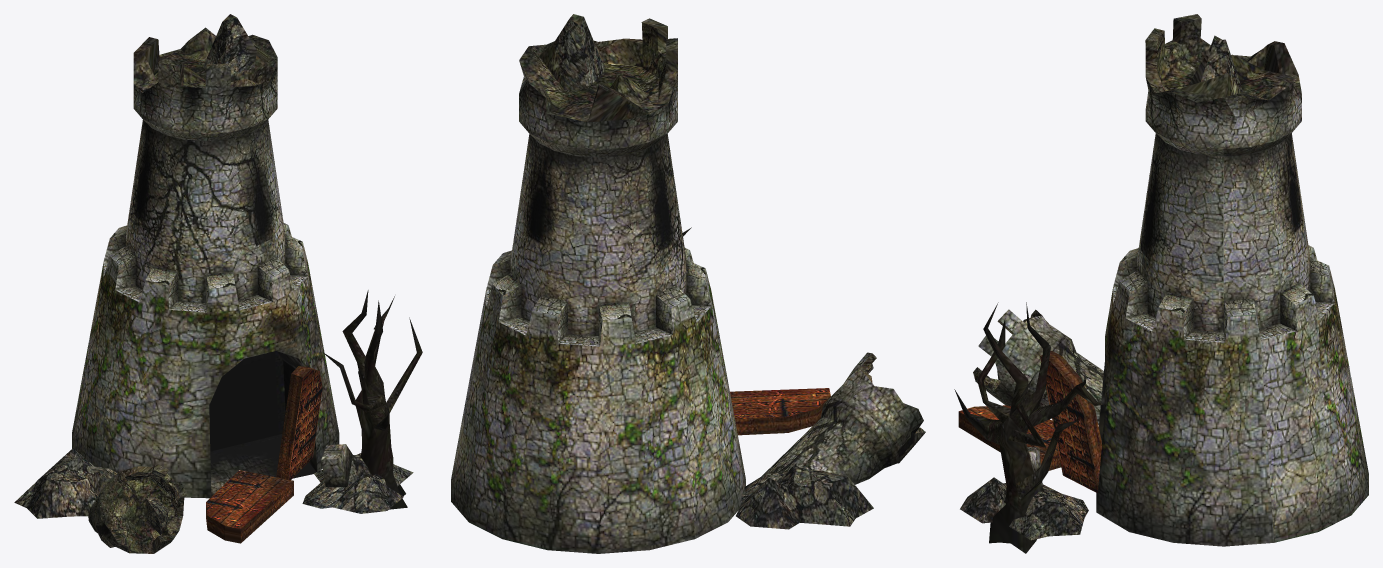
The model's file is twr.FBX.
3 views of the same model, side by side, from view 1: azimuth 30°, elevation 25°; view 2: azimuth 150°, elevation 25°; view 3: azimuth 270°, elevation 25° (orthographic). The views are drawn at different scales.
Parts seen in each view (by area): view 1: Line01; view 2: Line01; view 3: Line01.
Boxes of the visible parts, box(x1,y1,x2,y2) form: Line01: box(14, 14, 422, 553); Line01: box(451, 14, 925, 553); Line01: box(954, 14, 1368, 553).
Bounding box in the file's own units: 405 × 499 × 399.
